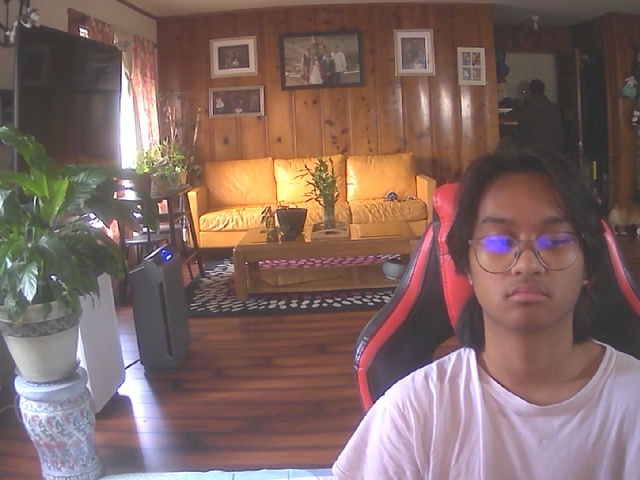neutral: (464, 153, 598, 335)
